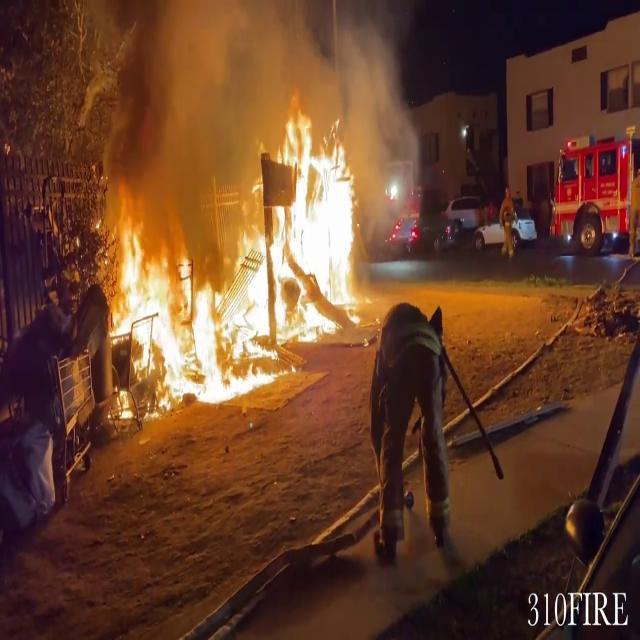Fire: (104, 105, 374, 411)
Smoke: (94, 0, 426, 202), (330, 3, 430, 236)
